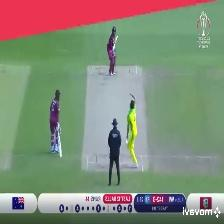batsman: (104, 25, 122, 76)
